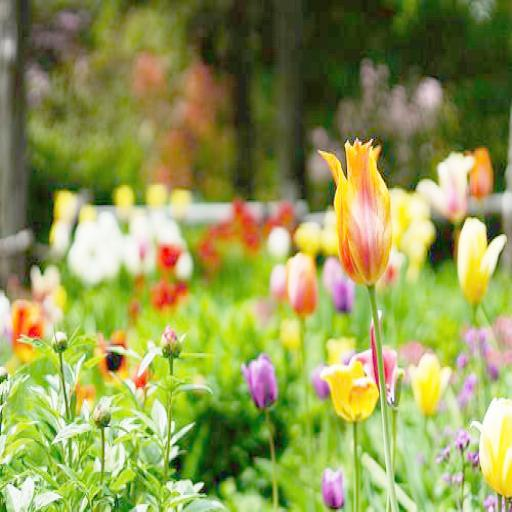tulip: (324, 136, 396, 288), (457, 221, 506, 302), (479, 393, 512, 506), (410, 350, 448, 416), (9, 294, 43, 361), (286, 251, 318, 321), (439, 151, 470, 219), (242, 356, 278, 412), (328, 365, 366, 418), (471, 145, 494, 199), (328, 268, 351, 316), (323, 467, 343, 506)
